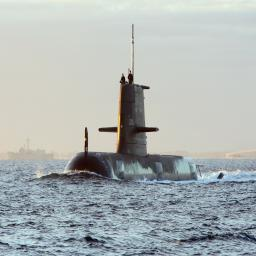submarine: (62, 20, 228, 188)
